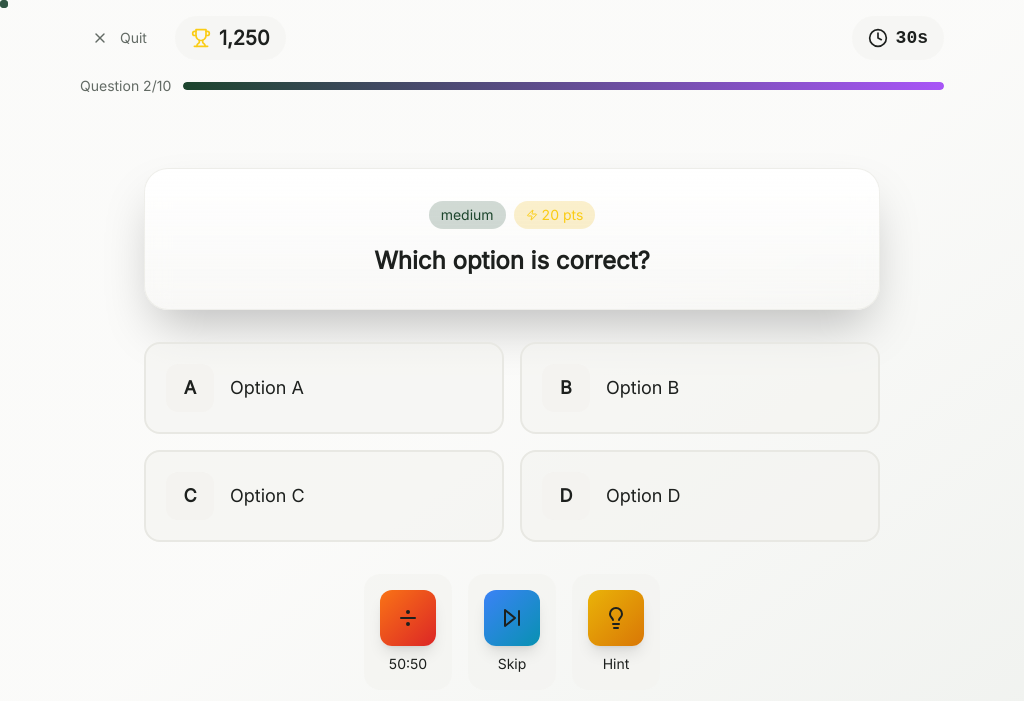
it: QuizGame › shows the correct answer and explanation after a wrong answer
Click the text "Option A". click: (267, 388)
box: [230,377,304,398]
Wait 2000 ms
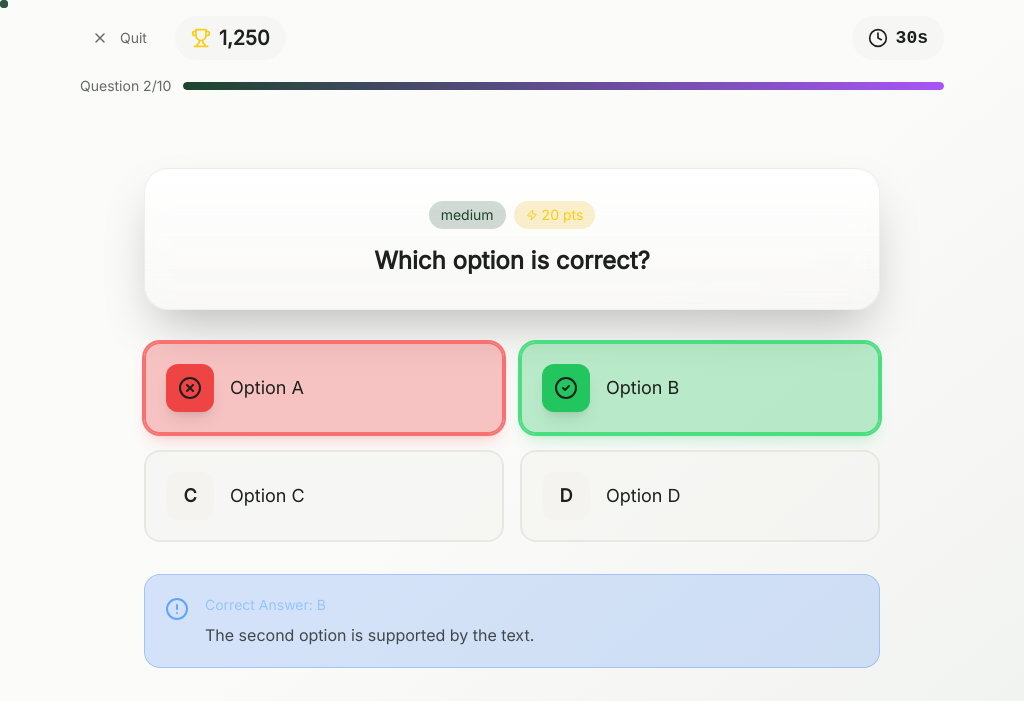
Now the text "Correct Answer: B" is shown, box [205,596,326,613]
Now the text "The second option is supported by the text." is shown, box [205,623,534,647]
